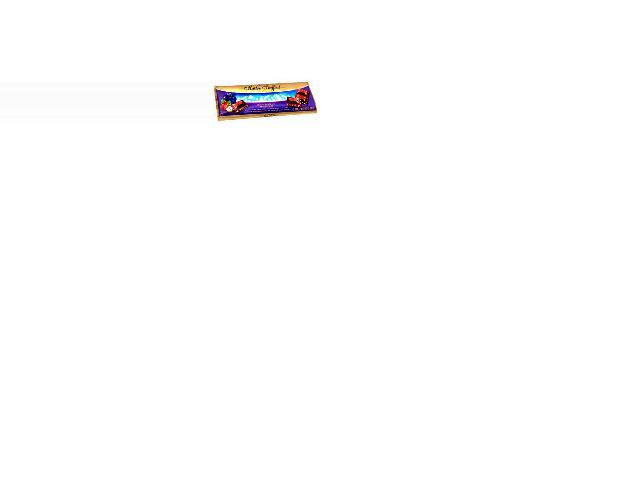chocolate: (214, 86, 321, 121)
